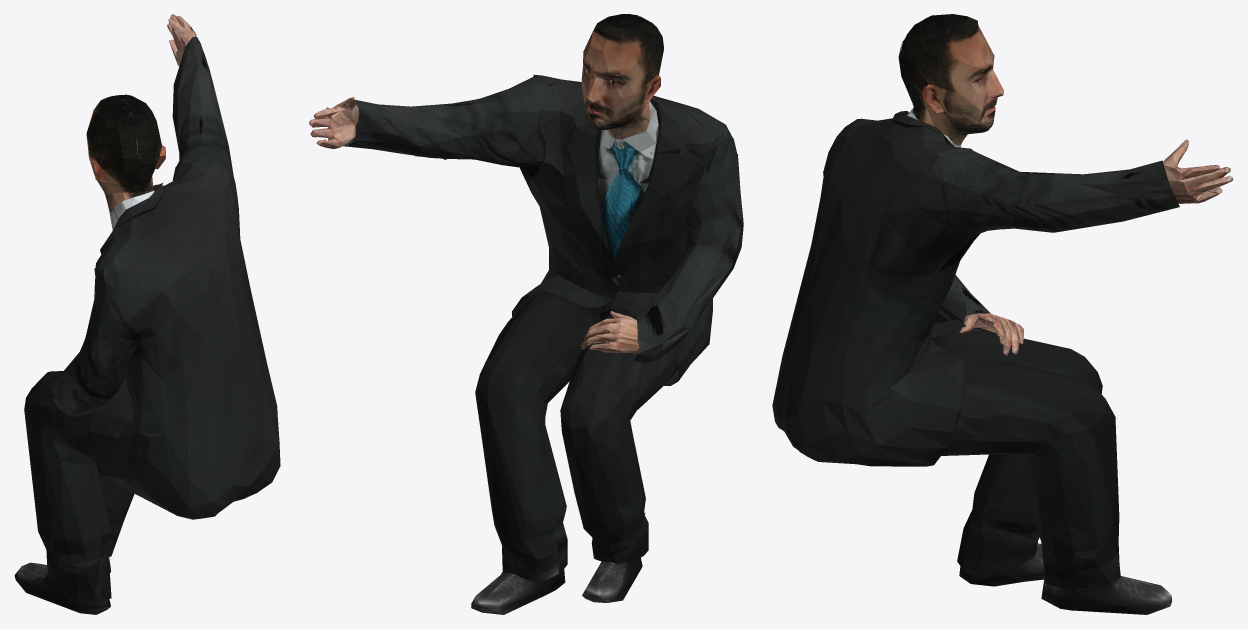
The model's file is businessman.fbx.
3 renders of one model, left to right at view 1: azimuth 30°, elevation 25°; view 2: azimuth 150°, elevation 25°; view 3: azimuth 270°, elevation 25°, orthographic. The views are drawn at different scales.
Parts seen in each view (by area): view 1: BusinessMan.001; view 2: BusinessMan.001; view 3: BusinessMan.001.
Boxes of the visible parts, box(x1,y1,x2,y2) form: BusinessMan.001: box(14, 14, 280, 614); BusinessMan.001: box(309, 14, 743, 614); BusinessMan.001: box(772, 14, 1233, 614).
Bounding box in the file's own units: 68.77 × 134 × 97.32.
